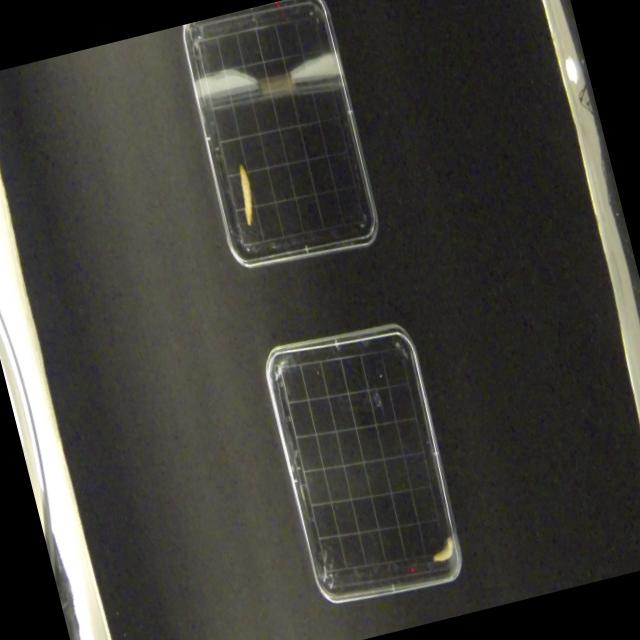larva: (232, 156, 260, 224), (428, 532, 458, 564)
